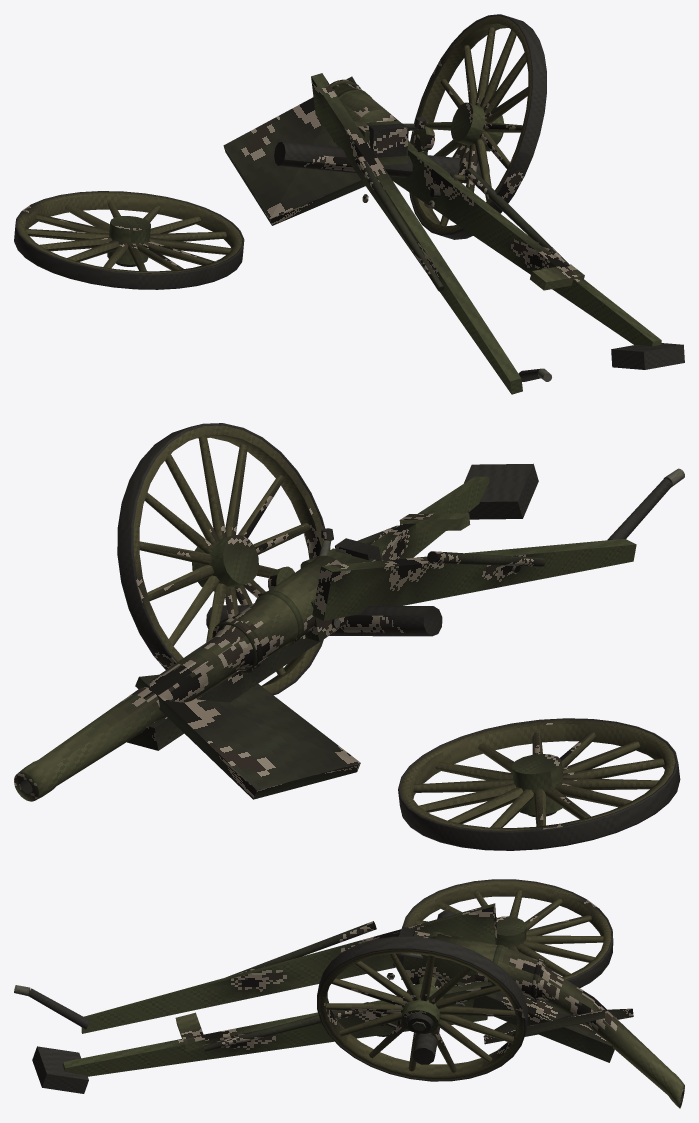
Rendered from field-gun-75-wreck.glb.
3 renders of one model, top to bottom at view 1: azimuth 30°, elevation 25°; view 2: azimuth 150°, elevation 25°; view 3: azimuth 270°, elevation 25°, orthographic. The views are drawn at different scales.
Visible parts, largest first — view 1: left-wheel, right-wheel, right-trail, left-trail, plate, carriage, barrel; view 2: left-wheel, right-wheel, barrel, left-trail, plate, right-trail, carriage; view 3: right-wheel, barrel, left-trail, right-trail, left-wheel, plate, carriage.
Boxes of the visible parts, <box> form: left-wheel: <box>14,191,244,289</box>; right-wheel: <box>409,14,546,239</box>; right-trail: <box>390,142,684,369</box>; left-trail: <box>311,73,551,394</box>; plate: <box>223,76,365,225</box>; carriage: <box>274,119,489,209</box>; barrel: <box>330,79,425,165</box>; left-wheel: <box>398,718,680,850</box>; right-wheel: <box>117,423,330,695</box>; barrel: <box>14,528,381,801</box>; left-trail: <box>312,468,684,620</box>; plate: <box>135,674,360,799</box>; right-trail: <box>300,463,538,568</box>; carriage: <box>206,566,442,636</box>; right-wheel: <box>317,936,527,1081</box>; barrel: <box>393,927,684,1108</box>; left-trail: <box>14,903,497,1033</box>; right-trail: <box>32,981,492,1093</box>; left-wheel: <box>402,879,613,987</box>; plate: <box>483,1008,633,1044</box>; carriage: <box>375,911,465,1064</box>.
Size of the model in its own units: 3.01 by 1.22 by 4.17.
Materials: 1 (1 with a texture image).
